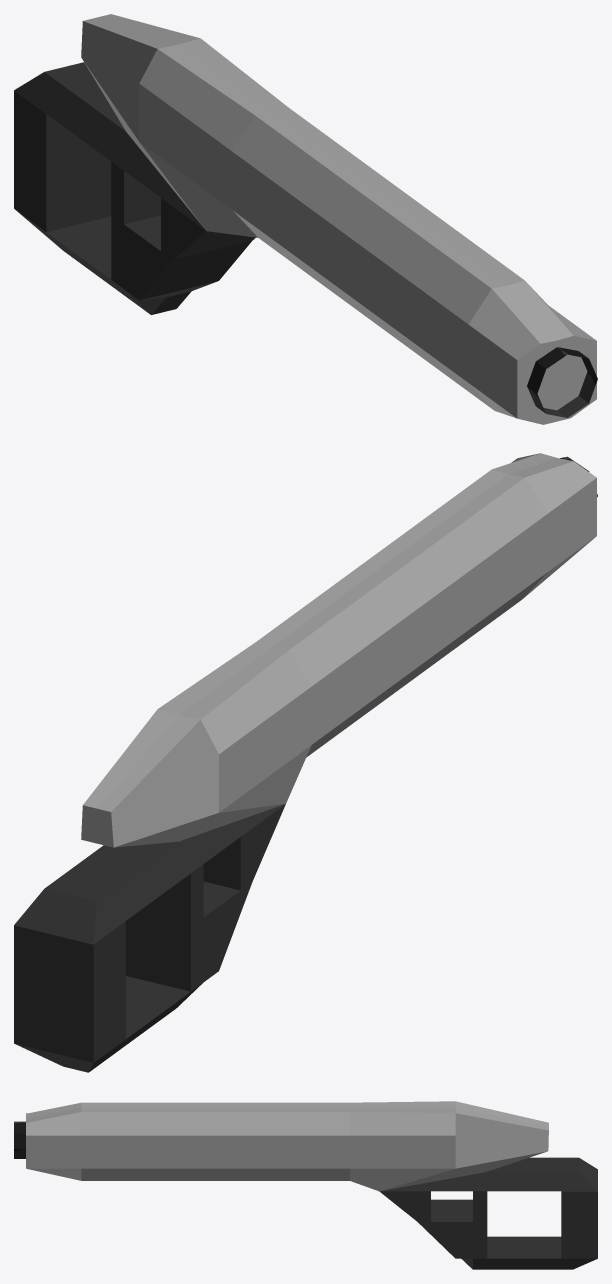
The model's file is fixedBlaster.fbx.
3 renders of one model, top to bottom at view 1: azimuth 30°, elevation 25°; view 2: azimuth 150°, elevation 25°; view 3: azimuth 270°, elevation 25°, orthographic. The views are drawn at different scales.
Visible parts, largest first — view 1: GripScale.001, Cylinder; view 2: GripScale.001; view 3: GripScale.001, Cylinder.
Part boxes in pixels (x1,y1,x2,y2): GripScale.001: (14, 14, 596, 424); Cylinder: (527, 347, 597, 417); GripScale.001: (14, 453, 596, 1072); GripScale.001: (26, 1101, 597, 1269); Cylinder: (14, 1121, 25, 1158).
Bounding box in the file's own units: 8.14 × 27.33 × 91.01.
